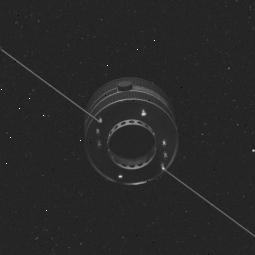double_start: (74, 71, 188, 190)
